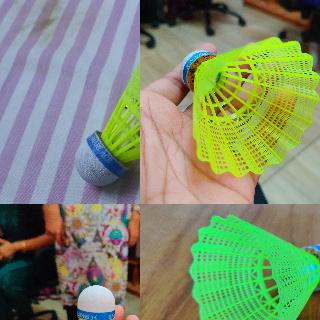shuttlecock: (179, 32, 319, 174), (189, 214, 319, 319), (75, 32, 139, 187), (51, 284, 136, 319)
